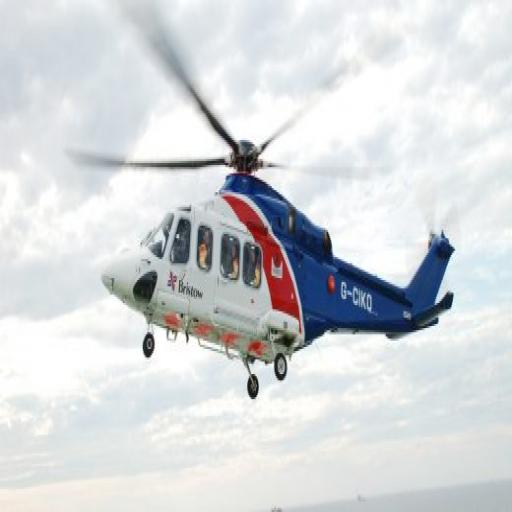helicopter: (85, 47, 475, 413)
